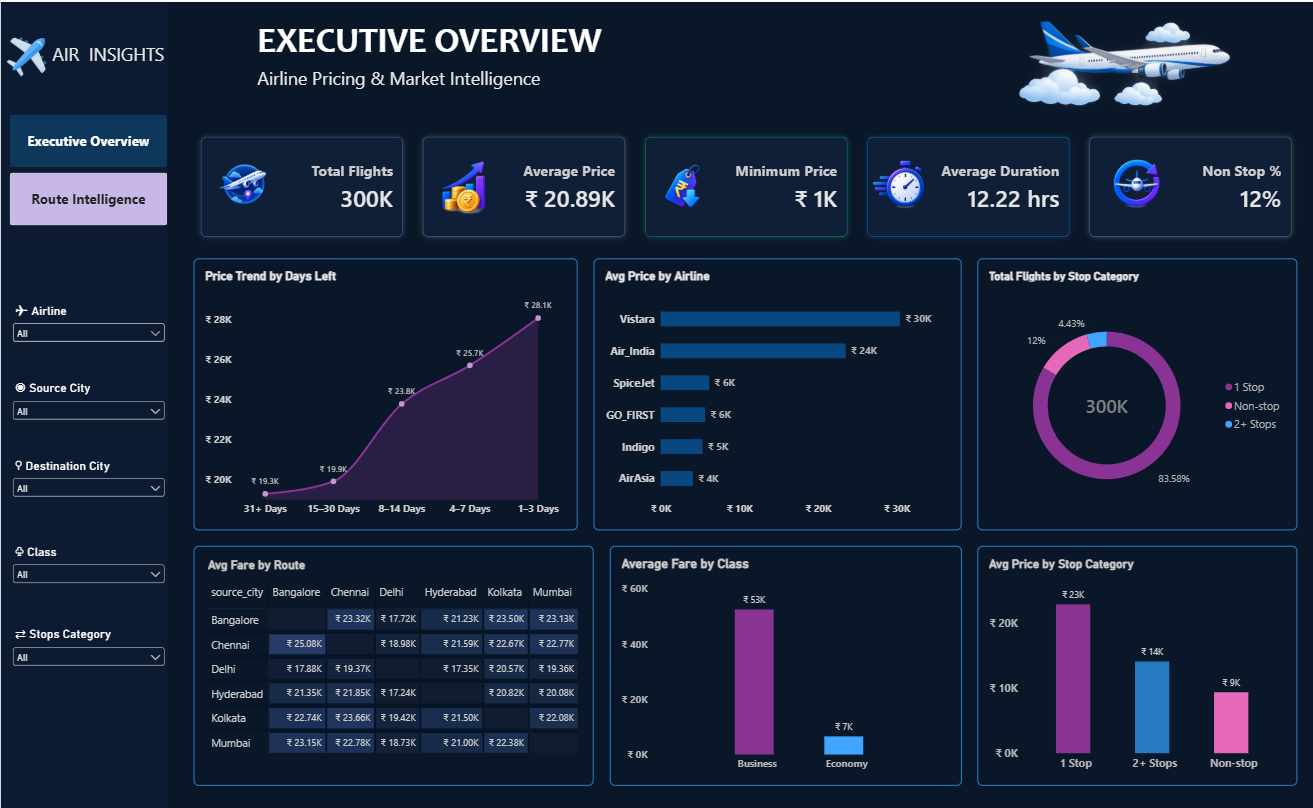

Layout of this report page (visuals, bound fields, positions):
{"tool":"powerbi","page":{"name":" Executive Overview","canvas":[1971,1212],"ordinal":0},"visuals":[{"type":"textbox","box":[384,24,936,96],"z":0},{"type":"textbox","box":[384,96,552,72],"z":1000},{"type":"shape","box":[0,0,249.3,1212.9],"z":2000},{"type":"textbox","box":[76.1,59.2,185.9,52.8],"z":3000},{"type":"slicer","fields":{"Values":["airlines_flights_data.airline"]},"box":[12.7,448,236.7,69.7],"z":4000},{"type":"slicer","fields":{"Values":["airlines_flights_data.source_city"]},"box":[12.7,568.4,236.7,76.1],"z":5000},{"type":"slicer","fields":{"Values":["airlines_flights_data.destination_city"]},"box":[12.7,680.4,236.7,88.7],"z":6000},{"type":"slicer","fields":{"Values":["airlines_flights_data.class"]},"box":[12.7,809.3,236.7,82.4],"z":7000},{"type":"slicer","fields":{"Values":["airlines_flights_data.Stops Category"]},"box":[12.7,936.1,236.7,71.8],"z":8000},{"type":"cardVisual","fields":{"Data":["airlines_flights_data.Total Flights","airlines_flights_data.Average Price","airlines_flights_data.Minimum Price","airlines_flights_data.Average Duration KPI","airlines_flights_data.Non Stop %"]},"box":[288,192,1657.4,172.3],"z":9000},{"type":"lineChart","title":"Price Trend by Days Left","fields":{"Category":["airlines_flights_data.Days Left Category"],"Y":["airlines_flights_data.Average Price"]},"box":[288,384,576,408],"z":10000},{"type":"clusteredBarChart","title":"Avg Price by Airline","fields":{"Category":["airlines_flights_data.airline"],"Y":["airlines_flights_data.Average Price"]},"box":[888,384,552,408],"z":11000},{"type":"pivotTable","title":"Avg Fare by Route","fields":{"Columns":["airlines_flights_data.destination_city"],"Rows":["airlines_flights_data.source_city"],"Values":["airlines_flights_data.Average Price"]},"box":[288,816,600,360],"z":12000},{"type":"donutChart","title":"Total Flights by Stop Category","fields":{"Category":["airlines_flights_data.Stops Category"],"Y":["airlines_flights_data.Total Flights"]},"box":[1464,384,480,408],"z":13000},{"type":"clusteredColumnChart","title":"Avg Price by Stop Category","fields":{"Category":["airlines_flights_data.Stops Category"],"Y":["airlines_flights_data.Average Price"]},"box":[1464,816,480,360],"z":14000},{"type":"image","box":[0,52.8,76.1,59.2],"z":15000},{"type":"clusteredColumnChart","title":"Average Fare by Class","fields":{"Category":["airlines_flights_data.class"],"Y":["airlines_flights_data.Average Price"]},"box":[912,816,528,360],"z":17000},{"type":"image","box":[321.3,212.8,76.6,112.8],"z":18000},{"type":"image","box":[642.6,214.9,95.7,112.8],"z":19000},{"type":"image","box":[985.1,214.9,76.6,112.8],"z":20000},{"type":"image","box":[1651.1,214.9,100,112.8],"z":21000},{"type":"image","box":[1296,216,96,120],"z":22000},{"type":"image","box":[1416,0,528,168],"z":22001},{"type":"pageNavigator","box":[12.7,169,236.7,166.9],"z":22003}]}

Visuals, with their boxes in screenshot pixels (x1, y1, x2, y2), scaled from the page's 1971x1212 canvas onto the 1313x808 screenshot:
textbox: select_region(256, 16, 879, 80)
textbox: select_region(256, 64, 624, 112)
shape: select_region(0, 0, 166, 807)
textbox: select_region(51, 39, 175, 75)
slicer - airlines_flights_data.airline: select_region(8, 299, 166, 345)
slicer - airlines_flights_data.source_city: select_region(8, 379, 166, 430)
slicer - airlines_flights_data.destination_city: select_region(8, 454, 166, 513)
slicer - airlines_flights_data.class: select_region(8, 540, 166, 594)
slicer - airlines_flights_data.Stops Category: select_region(8, 624, 166, 672)
cardVisual - airlines_flights_data.Total Flights x airlines_flights_data.Average Price: select_region(192, 128, 1296, 243)
"Price Trend by Days Left" lineChart: select_region(192, 256, 576, 528)
"Avg Price by Airline" clusteredBarChart: select_region(592, 256, 959, 528)
"Avg Fare by Route" pivotTable: select_region(192, 544, 592, 784)
"Total Flights by Stop Category" donutChart: select_region(975, 256, 1295, 528)
"Avg Price by Stop Category" clusteredColumnChart: select_region(975, 544, 1295, 784)
image: select_region(0, 35, 51, 75)
"Average Fare by Class" clusteredColumnChart: select_region(608, 544, 959, 784)
image: select_region(214, 142, 265, 217)
image: select_region(428, 143, 492, 218)
image: select_region(656, 143, 707, 218)
image: select_region(1100, 143, 1167, 218)
image: select_region(863, 144, 927, 224)
image: select_region(943, 0, 1295, 112)
pageNavigator: select_region(8, 113, 166, 224)
